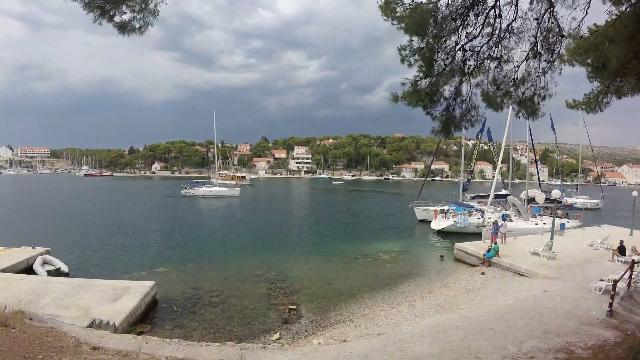Freighter: (206, 166, 258, 190)
Sailboat: (174, 176, 243, 202)
speedboat: (330, 176, 348, 188)
